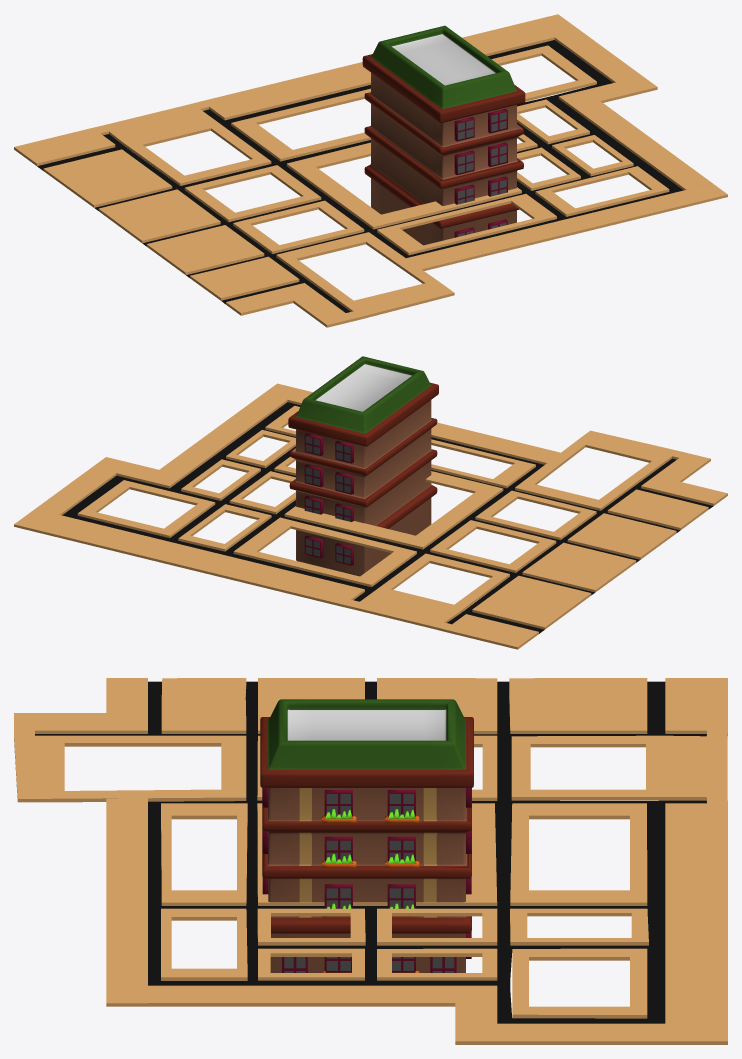
File: ruasrenovadas.fbx
3 renders of one model, top to bottom at view 1: azimuth 30°, elevation 25°; view 2: azimuth 150°, elevation 25°; view 3: azimuth 270°, elevation 25°, orthographic. The views are drawn at different scales.
Parts seen in each view (by area): view 1: Plane.004, Cube, Plane.001, Plane.003; view 2: Plane.004, Cube, Plane.001, Plane.003; view 3: Plane.004, Cube, Plane.001, Plane.003.
Part boxes in pixels (x1,y1,x2,y2): Plane.004: (14,14,712,327); Cube: (362,25,525,245); Plane.001: (37,40,683,312); Plane.003: (406,183,727,270); Plane.004: (14,393,727,649); Cube: (288,356,438,576); Plane.001: (62,402,713,633); Plane.003: (263,383,560,464); Plane.004: (14,678,727,1044); Cube: (260,699,473,972); Plane.001: (35,681,706,1023); Plane.003: (106,798,147,1006).
Bounding box in the file's own units: 2062 × 630 × 1712.
